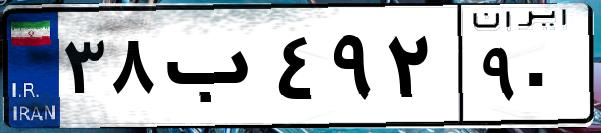0: (525, 38, 570, 115)
2: (385, 28, 445, 110)
3: (57, 26, 110, 100)
4: (270, 28, 330, 110)
8: (110, 28, 158, 98)
9: (330, 28, 385, 110), (475, 38, 525, 113)
ب: (158, 20, 270, 120)
